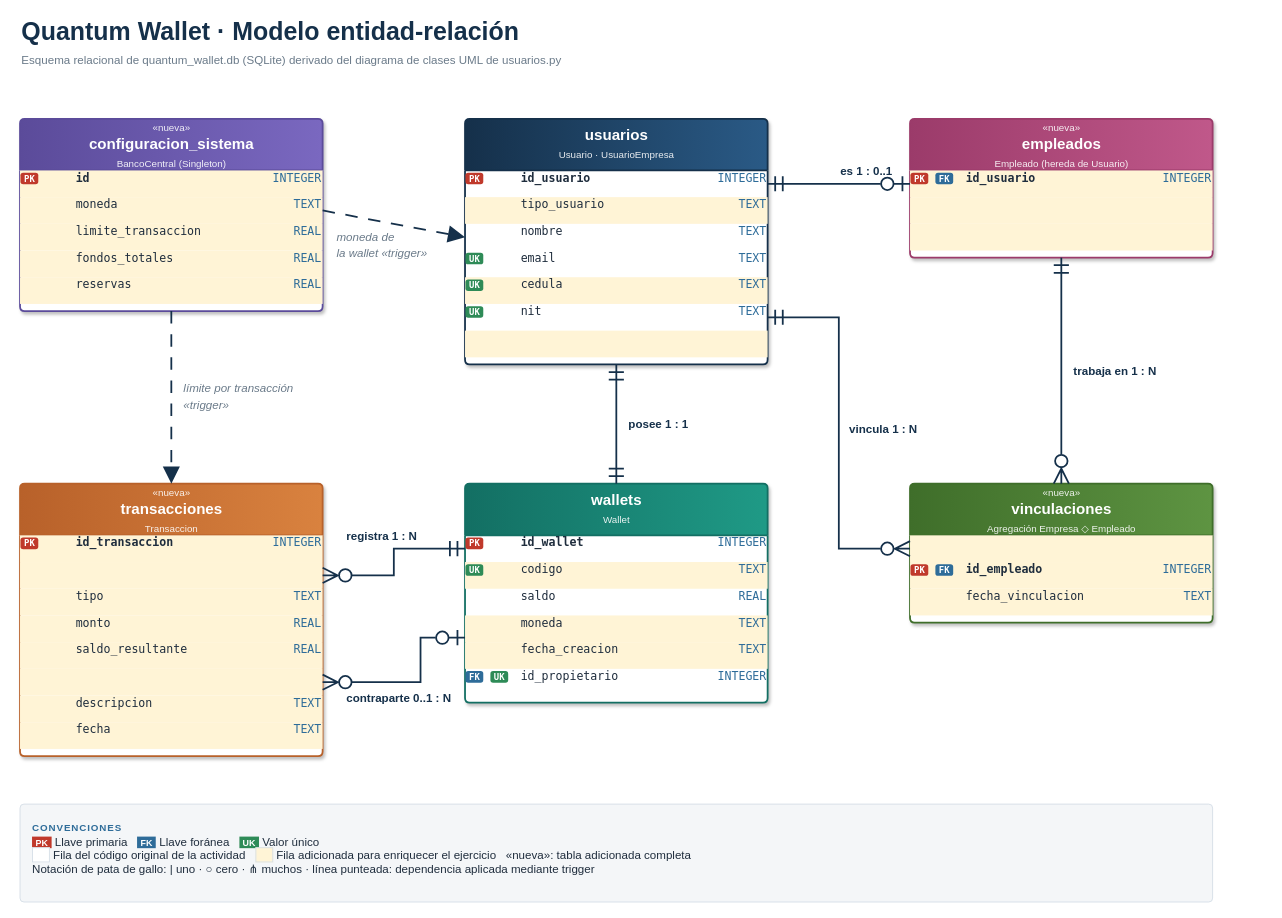
Image size: 1282x918. Some labels were removed from this diagram. The shapes that lost their labels are listed below. From the top down, each one's centre as x and y in pixels, then its label:
(1061,210): cargo TEXT
(1061,236): salario REAL
(616,343): fecha_registro TEXT
(1061,548): PK FK id_empresa INTEGER
(171,575): FK id_wallet INTEGER
(171,681): FK id_wallet_contraparte INTEGER
